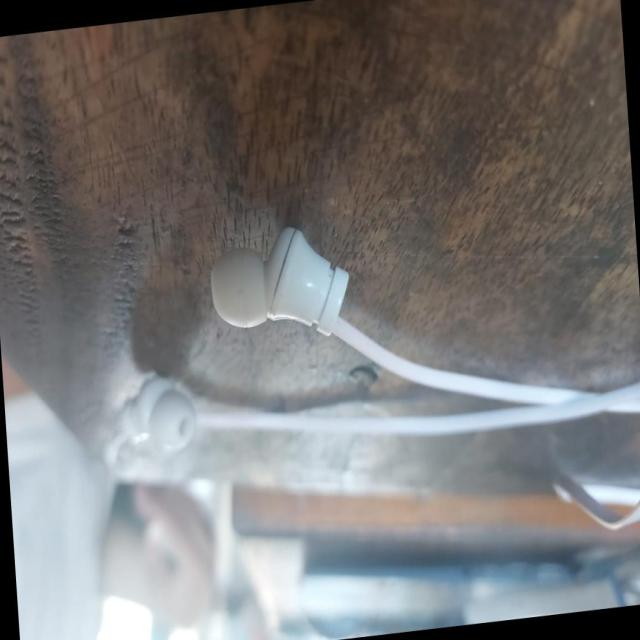earphone: (107, 144, 624, 554)
